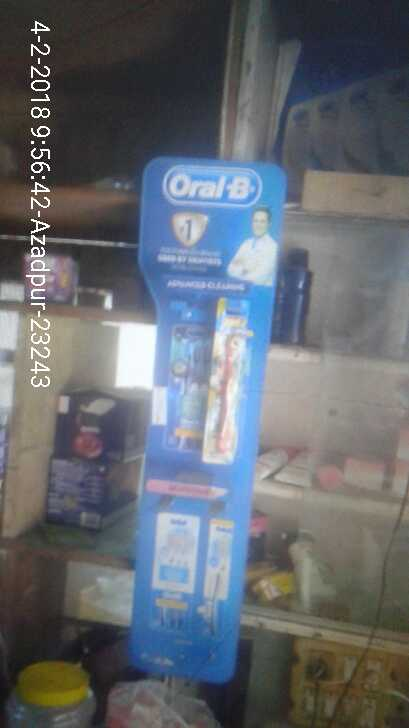oralb: (208, 327, 250, 469)
